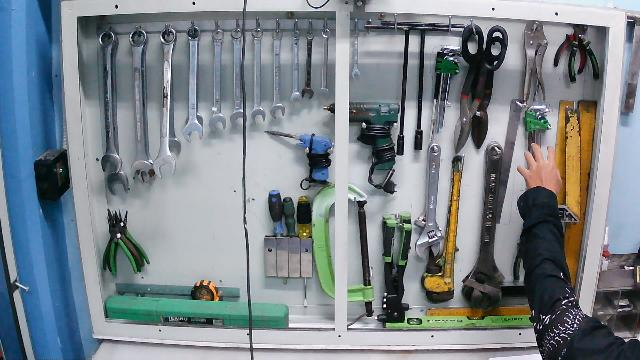kunci_l_bintang: (524, 101, 556, 182)
